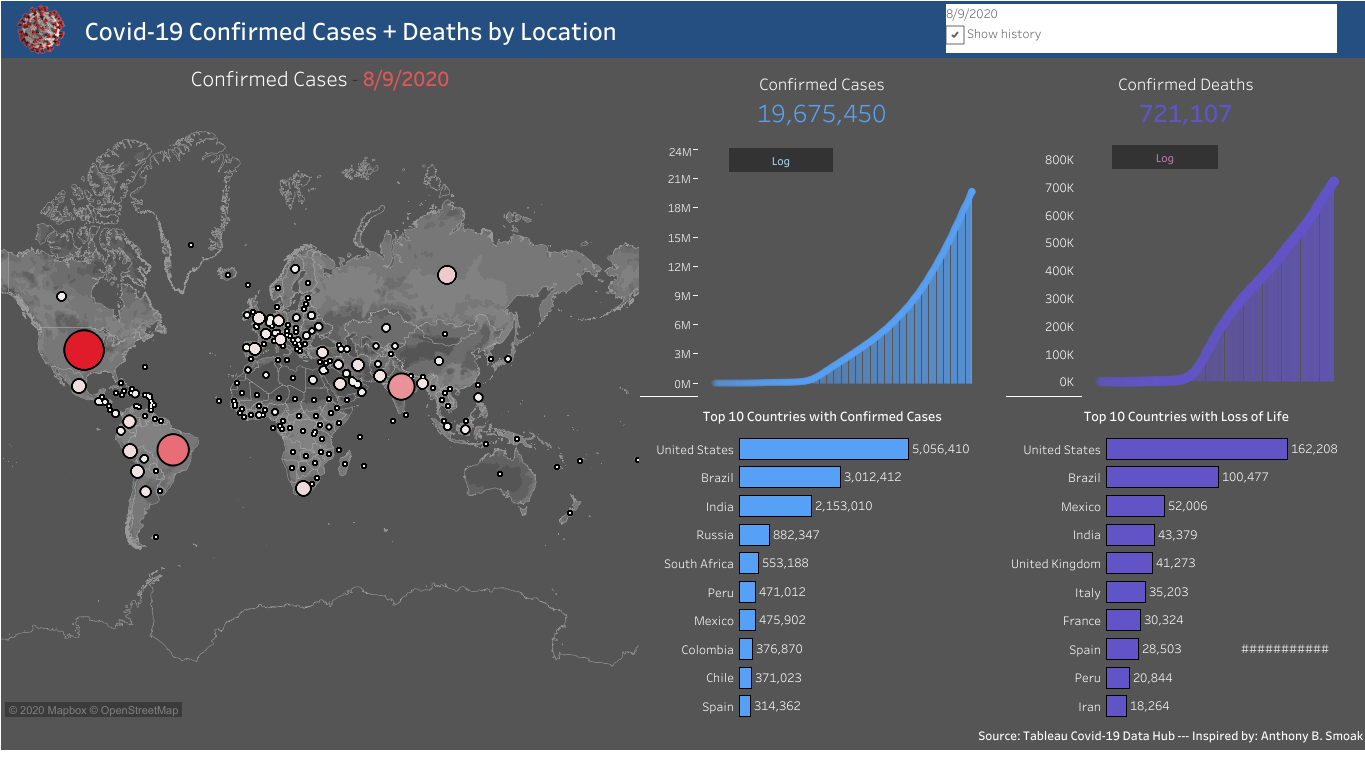

This screenshot's page, from the dashboard's own definition file:
{"tool":"tableau","page":{"name":"Covid-19 Confirmed Cases + Deaths by Location","canvas":[1366,768],"ordinal":0},"visuals":[{"type":"worksheet","box":[0,0,1366,768]},{"type":"worksheet","param":"vert","box":[1,1,1366,768]},{"type":"worksheet","param":"horz","box":[1,1,1366,57]},{"type":"worksheet","param":"Image/Covid Image.png","box":[1,1,81,57]},{"type":"worksheet","box":[82,1,1285,57]},{"type":"worksheet","title":"Map","mark":"Automatic","box":[946,4,391,49]},{"type":"worksheet","param":"horz","box":[8,8,1350,752]},{"type":"worksheet","box":[8,8,1350,752]},{"type":"worksheet","param":"horz","box":[1,58,1366,662]},{"type":"worksheet","title":"Map","mark":"Automatic","box":[1,58,638,662]},{"type":"worksheet","param":"vert","box":[639,58,367,662]},{"type":"worksheet","title":"Total Cases","mark":"Automatic","box":[639,58,367,85]},{"type":"worksheet","box":[1006,58,361,662]},{"type":"worksheet","param":"vert","box":[1006,58,361,339]},{"type":"worksheet","title":"Total Death","mark":"Automatic","box":[1006,58,361,85]},{"type":"worksheet","title":"Confirmed Cases Lines","mark":"Automatic","rows":["PEOPLE_POSITIVE_CASES_COUNT","PEOPLE_POSITIVE_CASES_COUNT"],"cols":["REPORT_DATE"],"box":[639,143,367,254]},{"type":"worksheet","param":"horz","box":[639,143,367,256]},{"type":"worksheet","title":"Confirmed Cases Lines (Log)","mark":"Automatic","rows":["PEOPLE_POSITIVE_CASES_COUNT","PEOPLE_POSITIVE_CASES_COUNT"],"cols":["REPORT_DATE"],"box":[639,143,367,256]},{"type":"worksheet","title":"Confirmed Death Lines ","mark":"Area","rows":["PEOPLE_DEATH_COUNT","PEOPLE_DEATH_COUNT"],"cols":["REPORT_DATE"],"box":[1006,143,361,254]},{"type":"worksheet","param":"horz","box":[1006,143,361,254]},{"type":"worksheet","title":"Confirmed Death Log","mark":"Area","rows":["PEOPLE_DEATH_COUNT","PEOPLE_DEATH_COUNT"],"cols":["REPORT_DATE"],"box":[1006,143,361,254]},{"type":"worksheet","box":[1112,145,106,24]},{"type":"worksheet","box":[729,148,104,24]},{"type":"worksheet","box":[639,397,367,37]},{"type":"worksheet","param":"vert","box":[1006,397,361,323]},{"type":"worksheet","box":[1006,397,361,37]},{"type":"worksheet","title":"Top 10 Countries (Bar)","mark":"Automatic","rows":["COUNTRY_SHORT_NAME"],"cols":["PEOPLE_POSITIVE_CASES_COUNT"],"box":[639,434,367,286]},{"type":"worksheet","title":"Top 10 Countries Deaths (Bar)","mark":"Automatic","rows":["COUNTRY_SHORT_NAME"],"cols":["PEOPLE_DEATH_COUNT"],"box":[1006,434,361,286]},{"type":"worksheet","title":"As of Date","mark":"Automatic","box":[1234,612,103,73]},{"type":"worksheet","param":"horz","box":[1,720,1366,30]},{"type":"worksheet","box":[1,720,1366,30]}]}

Visuals, with their boxes in screenshot pixels (x1, y1, x2, y2), scaled from the page's 1366x768 canvas onto the 1365x767 screenshot:
worksheet: 0:0:1364:766
worksheet: 1:1:1364:766
worksheet: 1:1:1364:58
worksheet: 1:1:82:58
worksheet: 82:1:1364:58
"Map" worksheet: 945:4:1336:53
worksheet: 8:8:1357:759
worksheet: 8:8:1357:759
worksheet: 1:58:1364:719
"Map" worksheet: 1:58:639:719
worksheet: 639:58:1005:719
"Total Cases" worksheet: 639:58:1005:143
worksheet: 1005:58:1364:719
worksheet: 1005:58:1364:396
"Total Death" worksheet: 1005:58:1364:143
"Confirmed Cases Lines" worksheet: 639:143:1005:396
worksheet: 639:143:1005:398
"Confirmed Cases Lines (Log)" worksheet: 639:143:1005:398
"Confirmed Death Lines " worksheet (Area marks): 1005:143:1364:396
worksheet: 1005:143:1364:396
"Confirmed Death Log" worksheet (Area marks): 1005:143:1364:396
worksheet: 1111:145:1217:169
worksheet: 728:148:832:172
worksheet: 639:396:1005:433
worksheet: 1005:396:1364:719
worksheet: 1005:396:1364:433
"Top 10 Countries (Bar)" worksheet: 639:433:1005:719
"Top 10 Countries Deaths (Bar)" worksheet: 1005:433:1364:719
"As of Date" worksheet: 1233:611:1336:684
worksheet: 1:719:1364:749
worksheet: 1:719:1364:749
